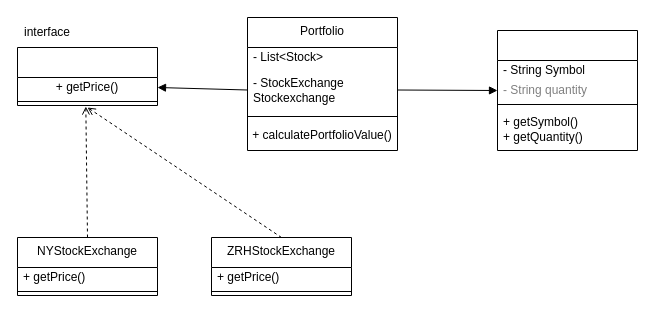
Image size: 655x313. Some labels were removed from this diagram. The box of each missing label's shape, as (x1, y1, x2, y2) in pixels:
Stock: (496, 30, 638, 150)
StockExchange: (16, 46, 158, 106)
